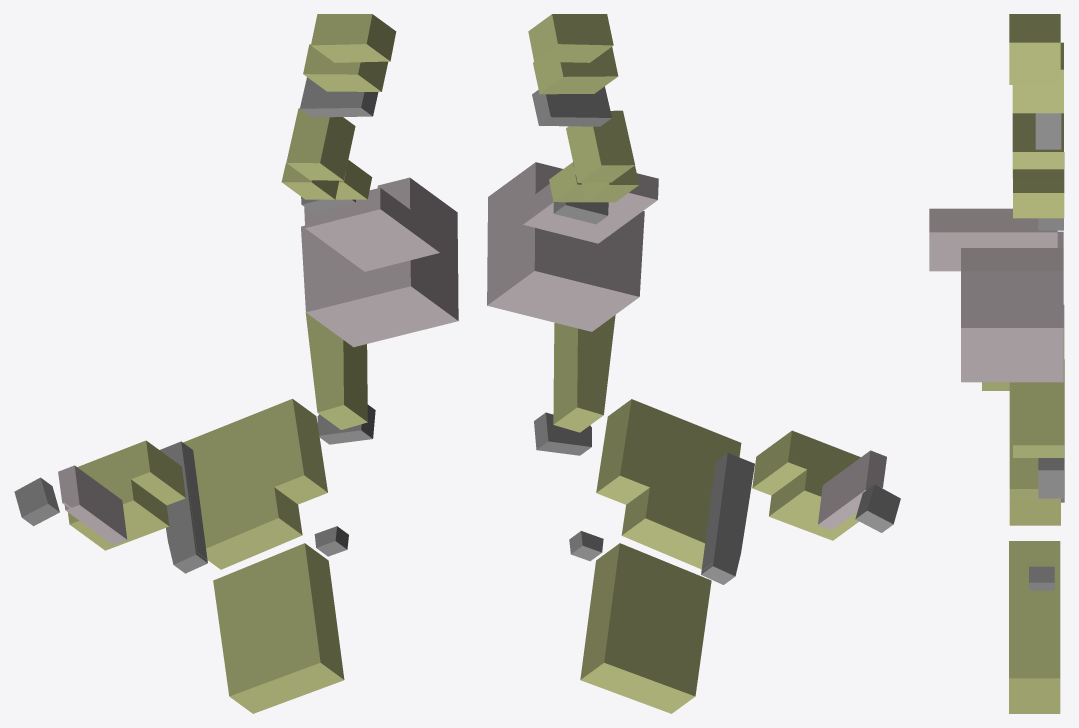
3 renders of one model, left to right at view 1: azimuth 30°, elevation 25°; view 2: azimuth 150°, elevation 25°; view 3: azimuth 270°, elevation 25°, orthographic. The views are drawn at different scales.
Parts seen in each view (by area): view 1: 0_1_2_0_1_1_0_0; view 2: 0_1_2_0_1_1_0_0; view 3: 0_1_2_0_1_1_0_0.
Boxes of the visible parts, x1,y1,x2,y2 form: 0_1_2_0_1_1_0_0: [14, 14, 458, 713]; 0_1_2_0_1_1_0_0: [487, 14, 900, 713]; 0_1_2_0_1_1_0_0: [929, 14, 1064, 713].
Size of the model in its own units: 57.98 by 91.7 by 15.8.
